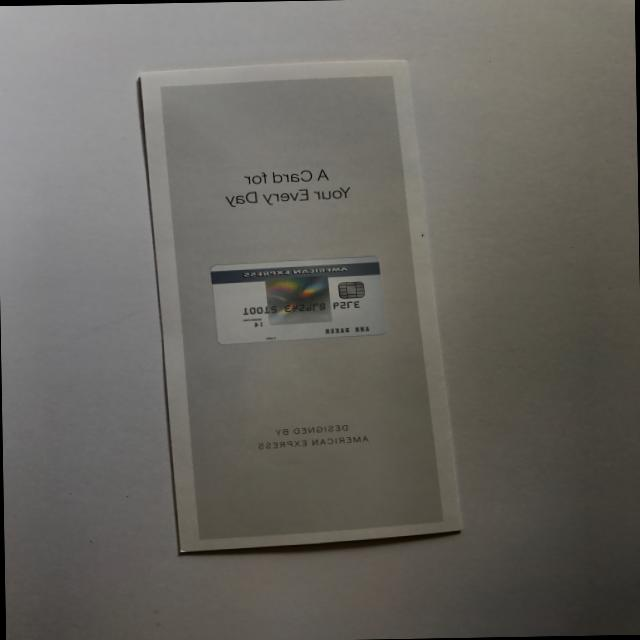Paper: (134, 36, 479, 574)
